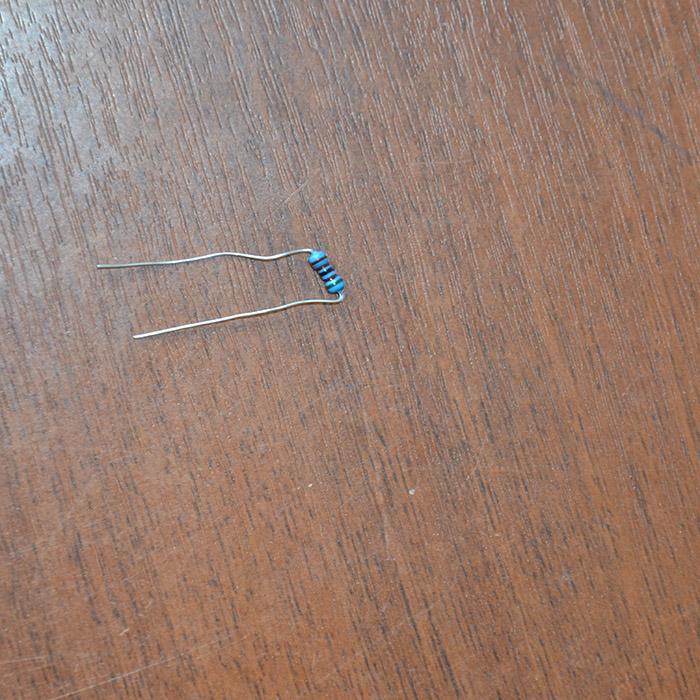resistor: (307, 249, 343, 294)
